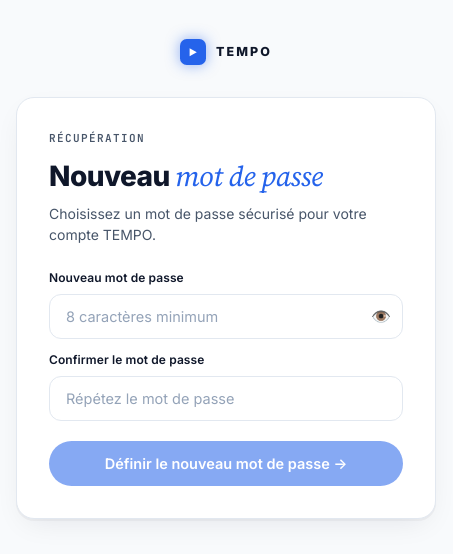
Test: ResetPassword › Indicateur de force du mot de passe › affiche "Bon" pour 10-11 chars
The width and height of the screenshot is (453, 554).
Type "Abcdefgh12" into the password field labelled "Nouveau mot de passe".
click(226, 316); type("Abcdefgh12")  # box x1=49 y1=294 x2=403 y2=339
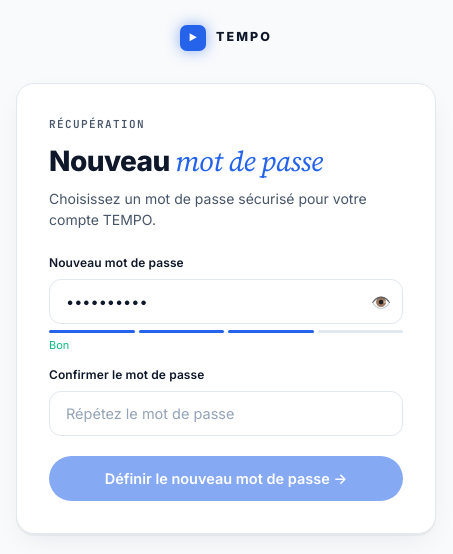
Check: the text "Bon" is shown, box x1=49 y1=338 x2=69 y2=352
